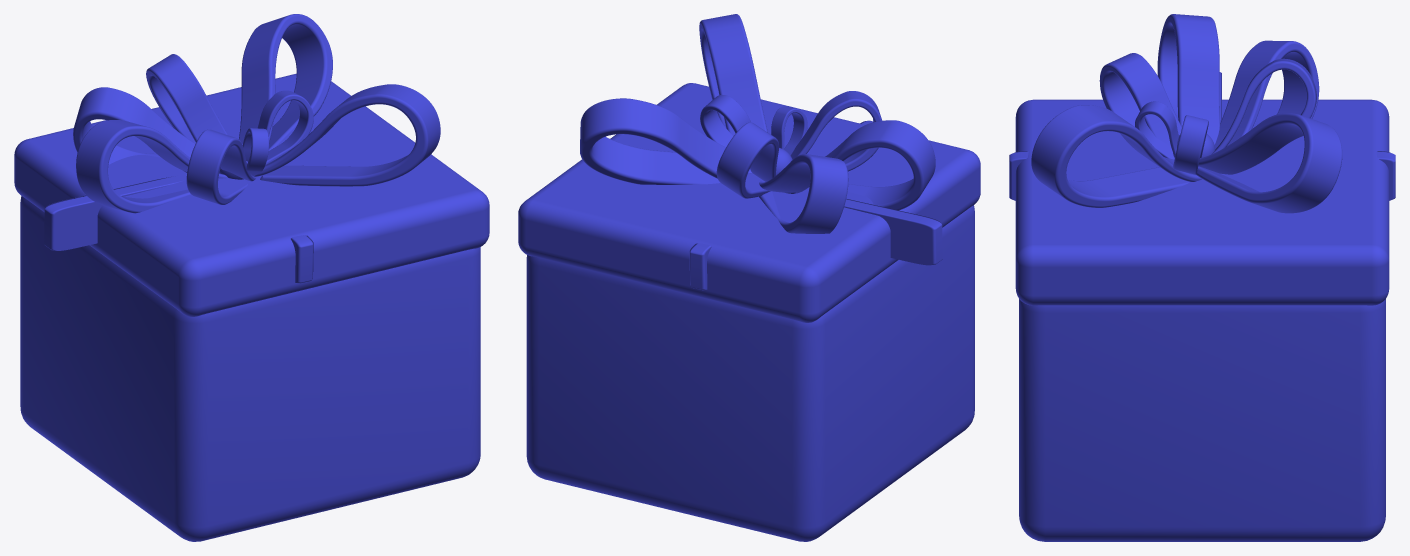
Rendered from gift_box.glb.
3 views of the same model, side by side, from view 1: azimuth 30°, elevation 25°; view 2: azimuth 150°, elevation 25°; view 3: azimuth 270°, elevation 25° (orthographic). The views are drawn at different scales.
Visible parts, largest first — view 1: base, cube, Shape 3, Shape 2, Shape, Rectangle (×2), Shape 4, Shape 5, Shape 7, Shape 6, Shape 8; view 2: base, cube, Shape 3, Shape 7, Shape 2, Shape, Rectangle (×2), Shape 4, Shape 5, Shape 6, Shape 8; view 3: base, cube, Shape 2, Shape 3, Shape, Shape 7, Shape 5, Shape 4, Shape 6, Shape 8, Rectangle.
Boxes of the visible parts, x1=… form: base: x1=20, y1=196, x2=480, y2=541; cube: x1=14, y1=73, x2=489, y2=316; Shape 3: x1=239, y1=14, x2=332, y2=150; Shape 2: x1=254, y1=84, x2=440, y2=186; Shape: x1=76, y1=120, x2=227, y2=213; Rectangle (×2): x1=44, y1=175, x2=313, y2=283; Shape 4: x1=146, y1=54, x2=227, y2=143; Shape 5: x1=186, y1=129, x2=256, y2=204; Shape 7: x1=73, y1=87, x2=195, y2=172; Shape 6: x1=257, y1=90, x2=313, y2=164; Shape 8: x1=242, y1=128, x2=268, y2=176; base: x1=526, y1=205, x2=974, y2=541; cube: x1=518, y1=83, x2=980, y2=322; Shape 3: x1=580, y1=98, x2=751, y2=184; Shape 7: x1=759, y1=154, x2=848, y2=233; Shape 2: x1=699, y1=14, x2=767, y2=135; Shape: x1=785, y1=120, x2=935, y2=210; Rectangle (×2): x1=689, y1=120, x2=942, y2=290; Shape 4: x1=716, y1=122, x2=778, y2=198; Shape 5: x1=790, y1=91, x2=882, y2=171; Shape 6: x1=700, y1=95, x2=750, y2=146; Shape 8: x1=771, y1=106, x2=807, y2=155; base: x1=1019, y1=299, x2=1385, y2=541; cube: x1=1015, y1=99, x2=1389, y2=305; Shape 2: x1=1031, y1=105, x2=1202, y2=207; Shape 3: x1=1196, y1=113, x2=1342, y2=213; Shape: x1=1157, y1=14, x2=1220, y2=144; Shape 7: x1=1214, y1=40, x2=1319, y2=148; Shape 5: x1=1099, y1=53, x2=1181, y2=146; Shape 4: x1=1211, y1=58, x2=1316, y2=154; Shape 6: x1=1173, y1=115, x2=1208, y2=174; Shape 8: x1=1135, y1=101, x2=1178, y2=159; Rectangle: x1=1009, y1=151, x2=1395, y2=200.
Bounding box in the file's own units: 1.23 × 1.28 × 1.11.
